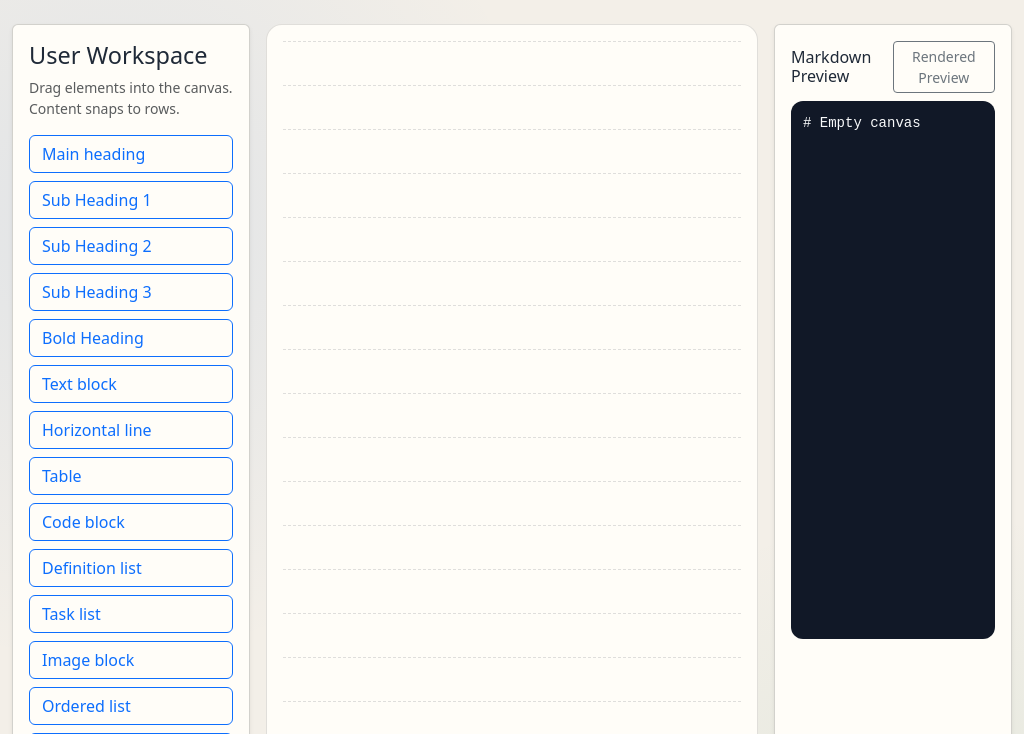
Test: UserWorkspace › toggles preview mode
Click the button "Rendered Preview".
click(944, 67)  # box x1=893 y1=41 x2=995 y2=93
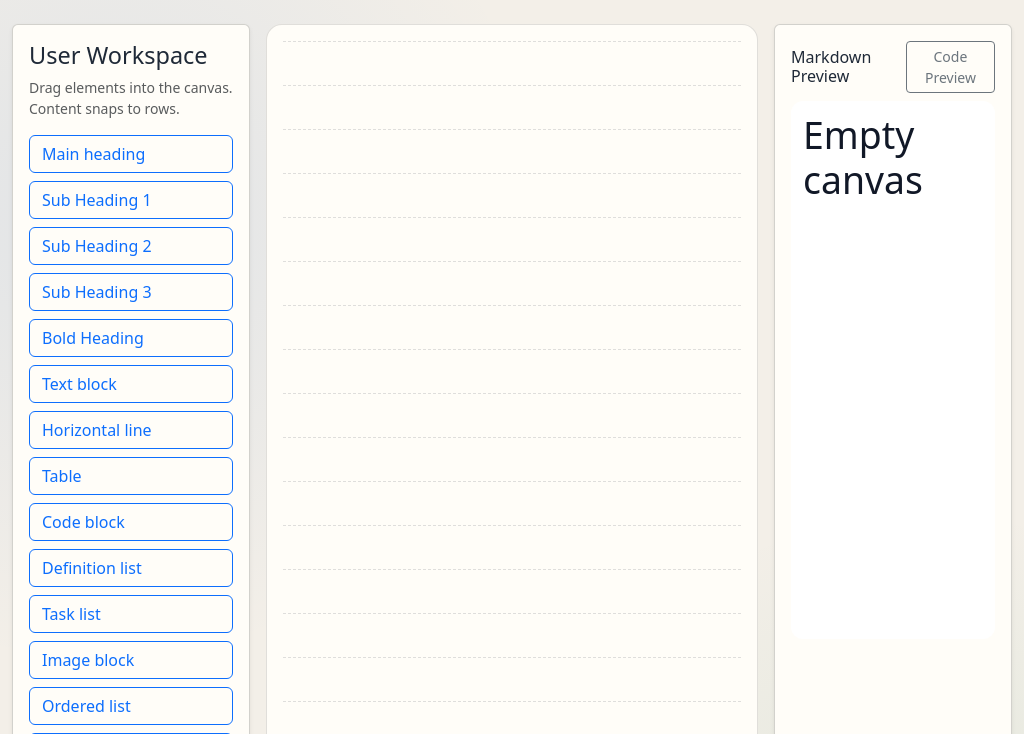
Expected: the button "Code Preview" is shown, x1=906 y1=41 x2=995 y2=93
